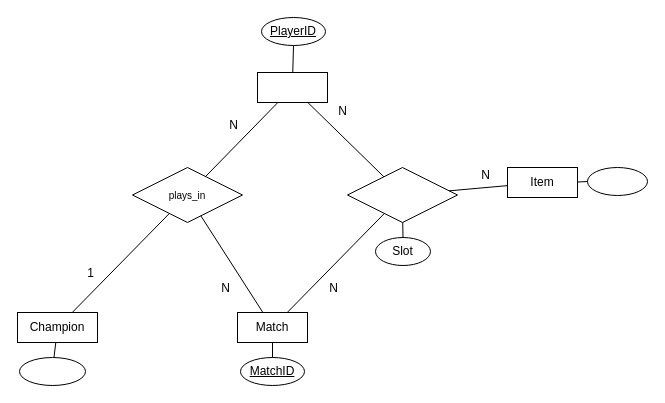
Some shapes in this 665 by 403 pixel diagram are drawn without their labels. Here are the shapes that lost their labels. From the top down, the centre of each, then its label:
the point at 292,87: Player
the point at 402,194: uses_item
the point at 617,181: ItemID
the point at 52,371: ChampID
